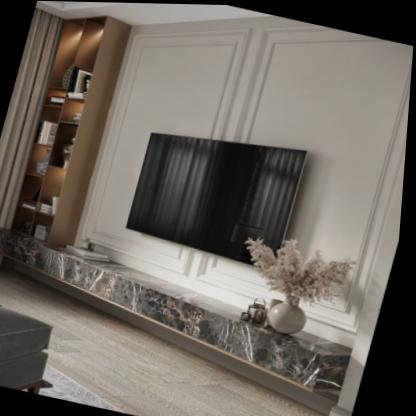Futec frame: (84, 14, 414, 318)
Wooden floor: (0, 268, 331, 416)
